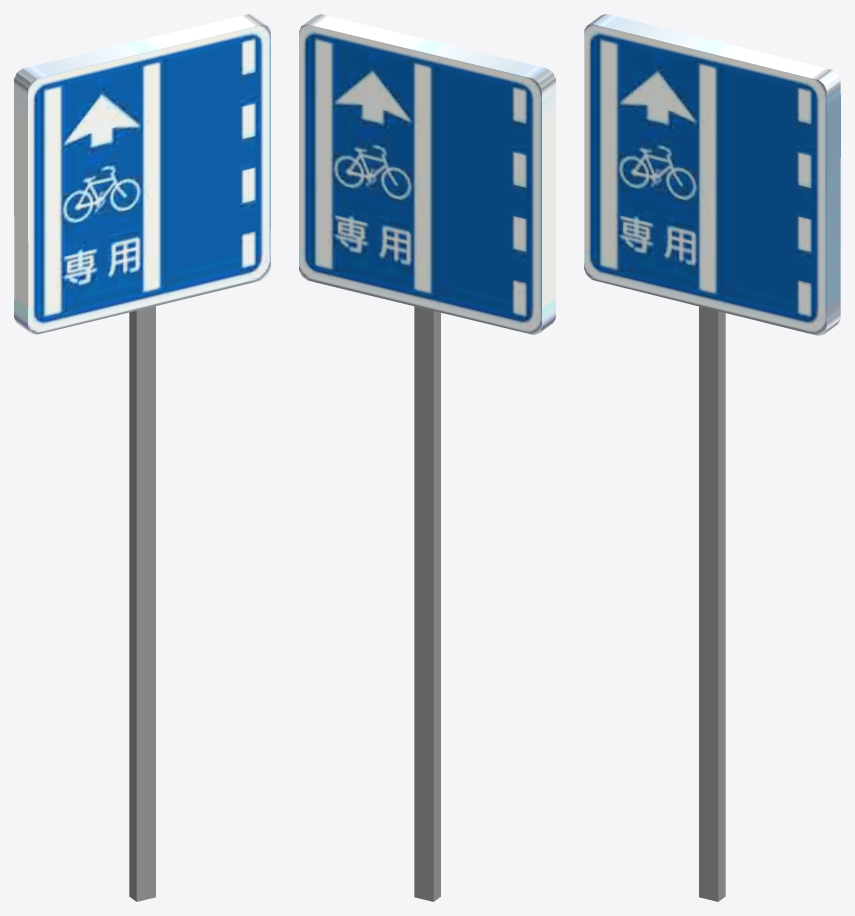
File: 502dc36e-38f4-4daf-9929-2e6cbe222b7f.glb
3 renders of one model, left to right at view 1: azimuth 30°, elevation 25°; view 2: azimuth 150°, elevation 25°; view 3: azimuth 330°, elevation 25°, orthographic.
Visible parts, largest first — view 1: AsianBlueSign.002; view 2: AsianBlueSign.002; view 3: AsianBlueSign.002.
Boxes of the visible parts, bbox=[...] form: AsianBlueSign.002: bbox=[14, 14, 270, 901]; AsianBlueSign.002: bbox=[299, 14, 555, 901]; AsianBlueSign.002: bbox=[584, 14, 840, 901].
Size of what is drawn, in the model's own units: 0.6092 by 2.04 by 0.0608.
2 materials, 2 textured.
